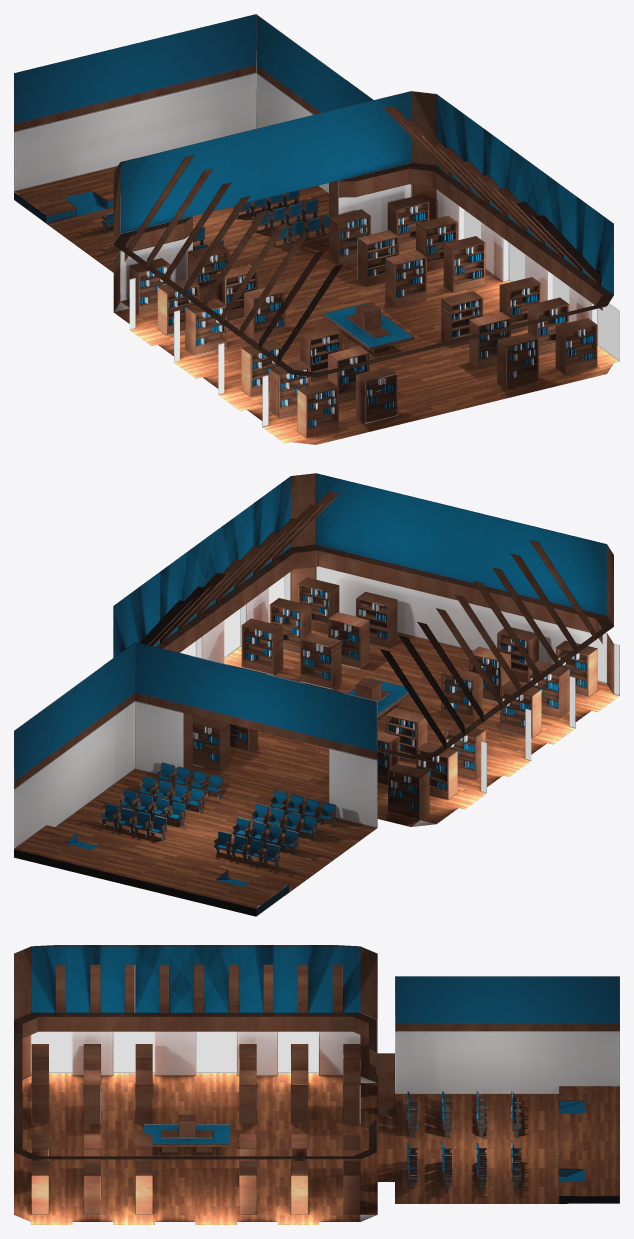
Rendered from library.glb.
3 views of the same model, one above another, from view 1: azimuth 30°, elevation 25°; view 2: azimuth 150°, elevation 25°; view 3: azimuth 270°, elevation 25° (orthographic). The views are drawn at different scales.
Parts seen in each view (by area): view 1: Furniture_0; view 2: Furniture_0; view 3: Furniture_0.
Boxes of the visible parts, x1=… form: Furniture_0: x1=14, y1=14, x2=619, y2=444; Furniture_0: x1=14, y1=473, x2=619, y2=916; Furniture_0: x1=14, y1=945, x2=619, y2=1224.
Bounding box in the file's own units: 14.46 × 6.27 × 24.39.
Materials: 1 (1 with a texture image).
